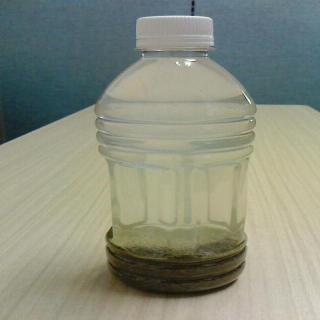Anorganik: (90, 10, 265, 301)
